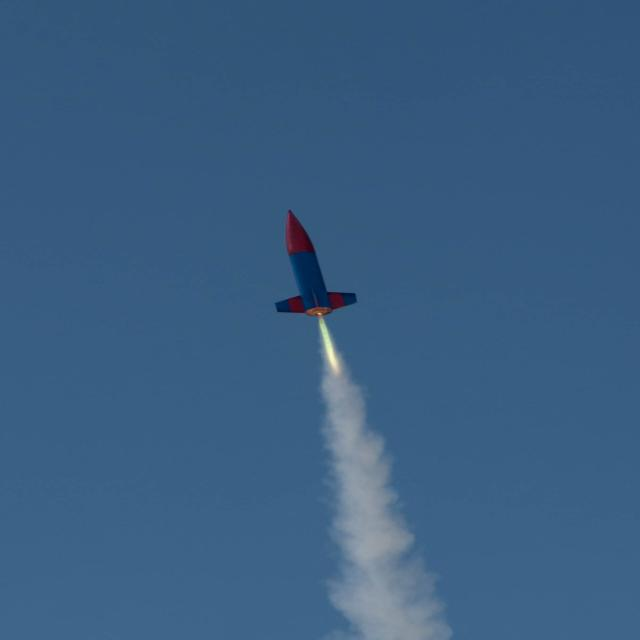Rocket: (274, 208, 359, 316)
